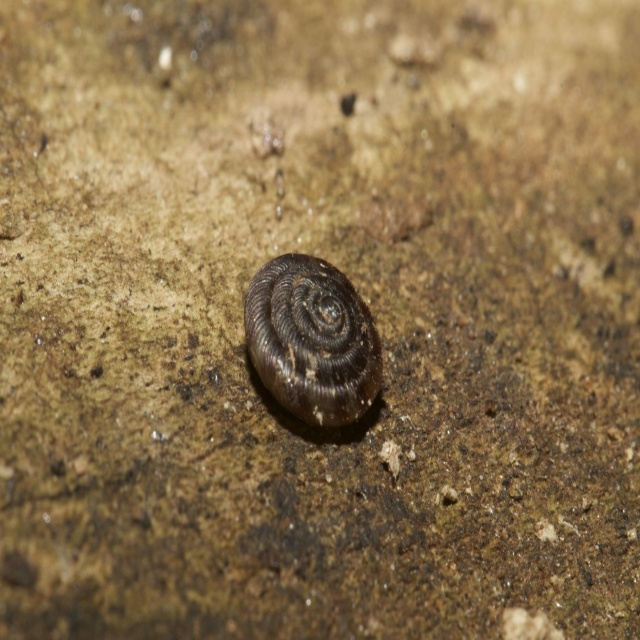Snail: (240, 250, 390, 430)
